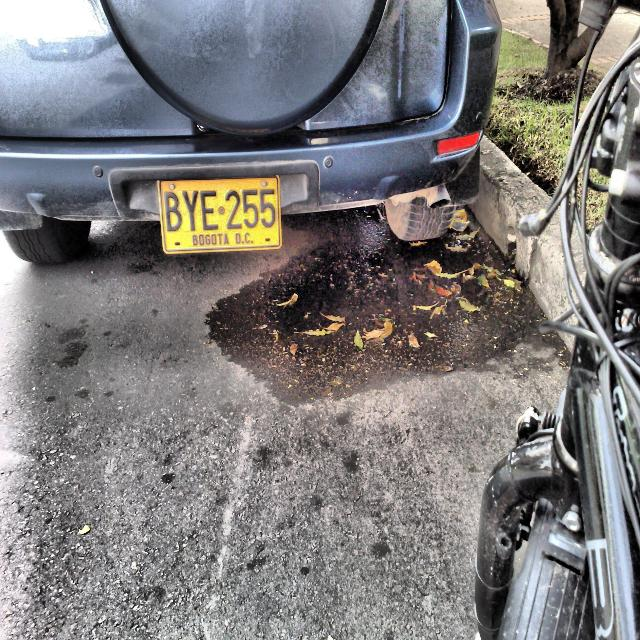plate: (158, 176, 281, 252)
